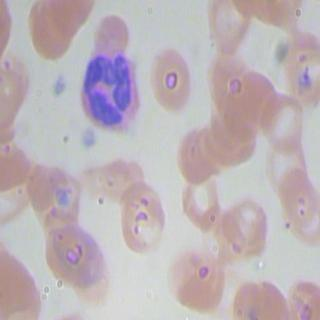Platelets: (51, 70, 70, 100)
RBC: (43, 214, 107, 290), (166, 242, 228, 316), (25, 158, 86, 228), (116, 182, 171, 252), (144, 44, 199, 114), (208, 104, 260, 172), (175, 120, 227, 188), (195, 106, 247, 172), (258, 90, 314, 150), (260, 130, 316, 190), (0, 244, 44, 320), (25, 0, 80, 60), (203, 0, 258, 58), (273, 164, 320, 230), (232, 66, 279, 132), (205, 42, 252, 108), (210, 88, 257, 154), (227, 272, 290, 320), (99, 146, 148, 206), (178, 166, 223, 230), (227, 196, 272, 258), (209, 208, 254, 270), (87, 10, 136, 64)
WBC: (79, 50, 142, 132)
